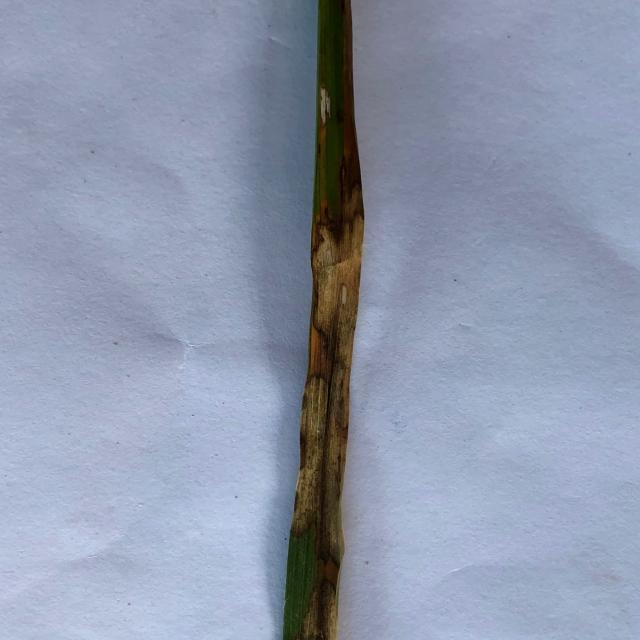leaf blight: (286, 193, 366, 551), (292, 565, 342, 640), (318, 78, 336, 134)
